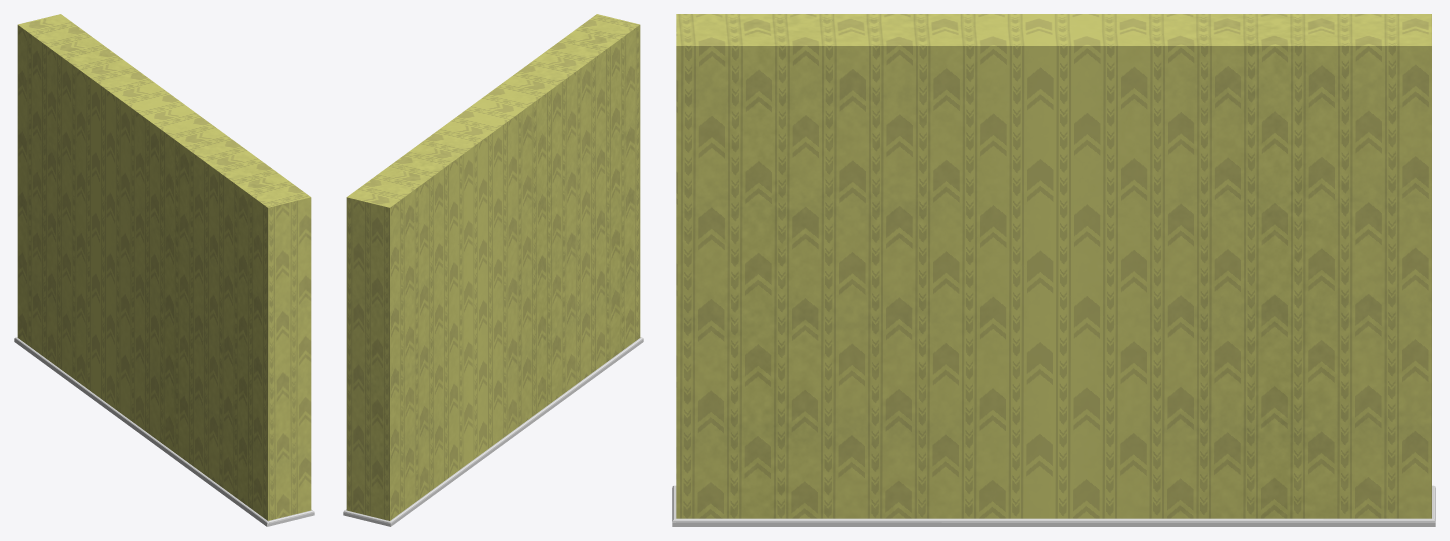
File: Wall.fbx
The picture shows the model from 3 angles, left to right: view 1: azimuth 30°, elevation 25°; view 2: azimuth 150°, elevation 25°; view 3: azimuth 270°, elevation 25°; orthographic projection. The views are drawn at different scales.
Parts seen in each view (by area): view 1: Wall, Cube.023; view 2: Wall, Cube.023; view 3: Wall, Cube.022.
Boxes of the visible parts, <box> form: Wall: <box>17,14,311,520</box>; Cube.023: <box>15,338,267,525</box>; Wall: <box>346,14,640,520</box>; Cube.023: <box>390,338,642,525</box>; Wall: <box>676,14,1431,518</box>; Cube.022: <box>676,518,1431,526</box>.
Bounding box in the file's own units: 110 × 700 × 1010.
Materials: 1 (1 with a texture image).
